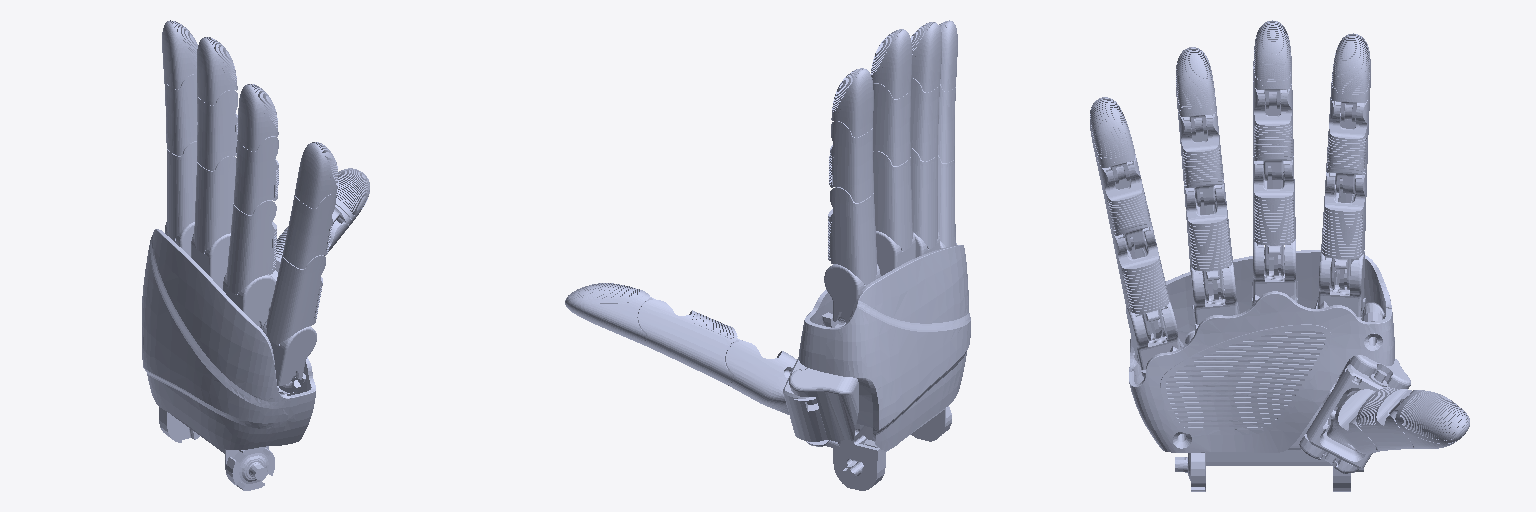
--- Render facts (derived) ---
3 views of the same robot in one strip: view 1: azimuth 30°, elevation 25°; view 2: azimuth 150°, elevation 25°; view 3: azimuth 270°, elevation 25° (orthographic).
Robot: 1011 — 21 links, 20 joints (20 revolute); root link base_link; default pose: all joints at 0.
Visible links, largest first — view 1: base_link, ring_proximal, pinky_proximal, middle_proximal, ring_middle, middle_middle, pinky_middle, index_proximal, index_middle, pinky_distal, ring_distal, middle_distal (+6 smaller); view 2: base_link, thumb_proximal, index_proximal, thumb_distal, thumb_metacarpals, middle_proximal, index_middle, middle_middle, ring_proximal, index_distal, middle_distal, ring_middle (+7 smaller); view 3: base_link, index_proximal, middle_proximal, pinky_proximal, ring_proximal, thumb_distal, index_middle, middle_middle, ring_middle, pinky_middle, index_distal, ring_distal (+9 smaller).
Link boxes in pixels (left/top/right/bottom): base_link: left=142, top=229, right=315, bottom=490; ring_proximal: left=227, top=200, right=276, bottom=294; pinky_proximal: left=266, top=255, right=325, bottom=345; middle_proximal: left=194, top=156, right=235, bottom=253; ring_middle: left=234, top=136, right=278, bottom=214; middle_middle: left=197, top=90, right=237, bottom=170; pinky_middle: left=283, top=194, right=336, bottom=268; index_proximal: left=167, top=141, right=196, bottom=240; index_middle: left=164, top=74, right=197, bottom=155; pinky_distal: left=295, top=142, right=337, bottom=208; ring_distal: left=237, top=84, right=278, bottom=151; middle_distal: left=197, top=37, right=237, bottom=105; base_link: left=789, top=245, right=970, bottom=490; thumb_proximal: left=637, top=299, right=742, bottom=384; index_proximal: left=828, top=187, right=876, bottom=285; thumb_distal: left=565, top=283, right=653, bottom=343; thumb_metacarpals: left=725, top=341, right=796, bottom=414; middle_proximal: left=873, top=151, right=912, bottom=251; index_middle: left=829, top=121, right=873, bottom=202; middle_middle: left=873, top=83, right=910, bottom=165; ring_proximal: left=911, top=148, right=937, bottom=249; index_distal: left=831, top=68, right=873, bottom=137; middle_distal: left=871, top=29, right=911, bottom=98; ring_middle: left=911, top=78, right=939, bottom=161; base_link: left=1129, top=250, right=1410, bottom=491; index_proximal: left=1321, top=169, right=1366, bottom=289; middle_proximal: left=1253, top=156, right=1295, bottom=275; pinky_proximal: left=1110, top=226, right=1169, bottom=340; ring_proximal: left=1183, top=180, right=1232, bottom=300; thumb_distal: left=1394, top=390, right=1469, bottom=448; index_middle: left=1326, top=95, right=1369, bottom=194; middle_middle: left=1253, top=81, right=1293, bottom=180; ring_middle: left=1177, top=106, right=1223, bottom=206; pinky_middle: left=1096, top=154, right=1151, bottom=251; index_distal: left=1331, top=33, right=1370, bottom=122; ring_distal: left=1176, top=47, right=1215, bottom=135.
Bounding box of the posed robot: 0.1263 × 0.1414 × 0.1892 m (x, y, z).
21 mesh visuals loaded from 21 distinct referenced files (21 binary STL).

robot.urdf — 1011:
<?xml version="1.0" encoding="utf-8"?>
<!-- This URDF was automatically created by SolidWorks to URDF Exporter! Originally created by Stephen Brawner ([email redacted]) 
     Commit Version: 1.6.0-4-g7f85cfe  Build Version: 1.6.7995.38578
     For more information, please see http://wiki.ros.org/sw_urdf_exporter -->
<robot
  name="1011">
  <link
    name="base_link">
    <inertial>
      <origin
        xyz="0.000122153727241945 0.000408198872102964 0.0349773948843507"
        rpy="0 0 0" />
      <mass
        value="0.0953275584592678" />
      <inertia
        ixx="8.12767034774874E-05"
        ixy="-1.20182058359627E-06"
        ixz="1.8603668517547E-06"
        iyy="3.66829163752885E-05"
        iyz="-5.92270024064725E-06"
        izz="5.50855700489137E-05" />
    </inertial>
    <visual>
      <origin
        xyz="0 0 0"
        rpy="0 0 0" />
      <geometry>
        <mesh
          filename="meshes/base_link.STL" />
      </geometry>
      <material
        name="">
        <color
          rgba="0.792156862745098 0.819607843137255 0.933333333333333 1" />
      </material>
    </visual>
    <collision>
      <origin
        xyz="0 0 0"
        rpy="0 0 0" />
      <geometry>
        <mesh
          filename="meshes/base_link.STL" />
      </geometry>
    </collision>
  </link>
  <link
    name="ring_metacarpals">
    <inertial>
      <origin
        xyz="0.000604992288528814 -0.000777000681643124 0.00921175861209927"
        rpy="0 0 0" />
      <mass
        value="0.00336703733173821" />
      <inertia
        ixx="2.52245609753582E-07"
        ixy="1.3957367915388E-09"
        ixz="-1.64337225544983E-08"
        iyy="2.28131148859466E-07"
        iyz="5.18441756668669E-09"
        izz="1.66457521170697E-07" />
    </inertial>
    <visual>
      <origin
        xyz="0 0 0"
        rpy="0 0 0" />
      <geometry>
        <mesh
          filename="meshes/ring_metacarpals.STL" />
      </geometry>
      <material
        name="">
        <color
          rgba="0.792156862745098 0.819607843137255 0.933333333333333 1" />
      </material>
    </visual>
    <collision>
      <origin
        xyz="0 0 0"
        rpy="0 0 0" />
      <geometry>
        <mesh
          filename="meshes/ring_metacarpals.STL" />
          
      </geometry>
    </collision>
  </link>
  <joint
    name="ring_mcp_roll"
    type="revolute">
    <origin
      xyz="0.000984164159990901 -0.0196233036484506 0.0595593160596756"
      rpy="0.000484146754163954 0.0090327772429152 0.0535483734265152" />
    <parent
      link="base_link" />
    <child
      link="ring_metacarpals" />
    <axis
      xyz="1 0 0" />
    <limit
      lower="-0.26"
      upper="0.26"
      effort="1"
      velocity="1" />
  </joint>
  <link
    name="ring_proximal">
    <inertial>
      <origin
        xyz="-0.000442405810898327 9.14959433330337E-05 0.0170991732306565"
        rpy="0 0 0" />
      <mass
        value="0.0050760533217958" />
      <inertia
        ixx="7.9802097349061E-07"
        ixy="4.96804620767589E-10"
        ixz="1.30336525851099E-08"
        iyy="7.76377361672724E-07"
        iyz="6.50584415383022E-09"
        izz="2.00454958675709E-07" />
    </inertial>
    <visual>
      <origin
        xyz="0 0 0"
        rpy="0 0 0" />
      <geometry>
        <mesh
          filename="meshes/ring_proximal.STL" />
      </geometry>
      <material
        name="">
        <color
          rgba="0.792156862745098 0.819607843137255 0.933333333333333 1" />
      </material>
    </visual>
    <collision>
      <origin
        xyz="0 0 0"
        rpy="0 0 0" />
      <geometry>
        <mesh
          filename="meshes/ring_proximal.STL" />
      </geometry>
    </collision>
  </link>
  <joint
    name="ring_mcp_pitch"
    type="revolute">
    <origin
      xyz="0.00205000000000084 -0.00142307699391602 0.0169403321062305"
      rpy="0.0838119142718017 -0.00903314306670486 -0.000758852240191828" />
    <parent
      link="ring_metacarpals" />
    <child
      link="ring_proximal" />
    <axis
      xyz="0 1 0" />
    <limit
      lower="0"
      upper="1.45"
      effort="1"
      velocity="1" />
  </joint>
  <link
    name="ring_middle">
    <inertial>
      <origin
        xyz="-3.07953615208812E-05 1.61945949635756E-05 0.012965186818066"
        rpy="0 0 0" />
      <mass
        value="0.00351914992638037" />
      <inertia
        ixx="4.05885505678015E-07"
        ixy="-1.85188429739576E-10"
        ixz="1.09283975990789E-08"
        iyy="3.87436363636499E-07"
        iyz="4.30697717728069E-10"
        izz="1.24393734331083E-07" />
    </inertial>
    <visual>
      <origin
        xyz="0 0 0"
        rpy="0 0 0" />
      <geometry>
        <mesh
          filename="meshes/ring_middle.STL" />
      </geometry>
      <material
        name="">
        <color
          rgba="0.792156862745098 0.819607843137255 0.933333333333333 1" />
      </material>
    </visual>
    <collision>
      <origin
        xyz="0 0 0"
        rpy="0 0 0" />
      <geometry>
        <mesh
          filename="meshes/ring_middle.STL" />
      </geometry>
    </collision>
  </link>
  <joint
    name="ring_pip"
    type="revolute">
    <origin
      xyz="0.000398702854897328 0 0.0374756622963914"
      rpy="0 0 0" />
    <parent
      link="ring_proximal" />
    <child
      link="ring_middle" />
    <axis
      xyz="0 1 0" />
    <limit
      lower="0"
      upper="1.45"
      effort="1"
      velocity="1" />
  </joint>
  <link
    name="ring_distal">
    <inertial>
      <origin
        xyz="-0.00162599582883669 5.76867107840787E-06 0.0106289489271671"
        rpy="0 0 0" />
      <mass
        value="0.0030085558007415" />
      <inertia
        ixx="1.60641427396609E-07"
        ixy="-4.07806615450471E-12"
        ixz="3.54886546370617E-08"
        iyy="1.52390062343029E-07"
        iyz="-6.05724354360575E-12"
        izz="7.33039277991604E-08" />
    </inertial>
    <visual>
      <origin
        xyz="0 0 0"
        rpy="0 0 0" />
      <geometry>
        <mesh
          filename="meshes/ring_distal.STL" />
      </geometry>
      <material
        name="">
        <color
          rgba="0.792156862745098 0.819607843137255 0.933333333333333 1" />
      </material>
    </visual>
    <collision>
      <origin
        xyz="0 0 0"
        rpy="0 0 0" />
      <geometry>
        <mesh
          filename="meshes/ring_distal.STL" />
      </geometry>
    </collision>
  </link>
  <joint
    name="ring_dip"
    type="revolute">
    <origin
      xyz="0.000310987014436305 0 0.0292309026345045"
      rpy="0 0 0" />
    <parent
      link="ring_middle" />
    <child
      link="ring_distal" />
    <axis
      xyz="0 1 0" />
    <limit
      lower="0"
      upper="1.45"
      effort="1"
      velocity="1" />
  </joint>
  <link
    name="pinky_metacarpals">
    <inertial>
      <origin
        xyz="0.000604992415298353 -0.00174798564812304 0.00907770691726507"
        rpy="0 0 0" />
      <mass
        value="0.00336703800549205" />
      <inertia
        ixx="2.52245635666355E-07"
        ixy="3.12791375981564E-09"
        ixz="-1.61935666749455E-08"
        iyy="2.26348062162324E-07"
        iyz="1.15615366525803E-08"
        izz="1.68240642777198E-07" />
    </inertial>
    <visual>
      <origin
        xyz="0 0 0"
        rpy="0 0 0" />
      <geometry>
        <mesh
          filename="meshes/pinky_metacarpals.STL" />
      </geometry>
      <material
        name="">
        <color
          rgba="0.792156862745098 0.819607843137255 0.933333333333333 1" />
      </material>
    </visual>
    <collision>
      <origin
        xyz="0 0 0"
        rpy="0 0 0" />
      <geometry>
        <mesh
          filename="meshes/pinky_metacarpals.STL" />
      </geometry>
    </collision>
  </link>
  <joint
    name="pinky_mcp_roll"
    type="revolute">
    <origin
      xyz="0.004476015868019 -0.0409880441556091 0.0460631677955588"
      rpy="0.00983049129128167 0.0480762501110176 0.201778667527731" />
    <parent
      link="base_link" />
    <child
      link="pinky_metacarpals" />
    <axis
      xyz="1 0 0" />
    <limit
      lower="-0.26"
      upper="0.26"
      effort="1"
      velocity="1" />
  </joint>
  <link
    name="pinky_proximal">
    <inertial>
      <origin
        xyz="0.000241573271918778 9.16621225185085E-05 0.0171032237676361"
        rpy="0 0 0" />
      <mass
        value="0.00507590942013936" />
      <inertia
        ixx="7.98071567469929E-07"
        ixy="7.55943229984881E-10"
        ixz="-1.08703328588972E-08"
        iyy="7.7633906295854E-07"
        iyz="6.48686122994881E-09"
        izz="2.00357492107178E-07" />
    </inertial>
    <visual>
      <origin
        xyz="0 0 0"
        rpy="0 0 0" />
      <geometry>
        <mesh
          filename="meshes/pinky_proximal.STL" />
      </geometry>
      <material
        name="">
        <color
          rgba="0.792156862745098 0.819607843137255 0.933333333333333 1" />
      </material>
    </visual>
    <collision>
      <origin
        xyz="0 0 0"
        rpy="0 0 0" />
      <geometry>
        <mesh
          filename="meshes/pinky_proximal.STL" />
      </geometry>
    </collision>
  </link>
  <joint
    name="pinky_mcp_pitch"
    type="revolute">
    <origin
      xyz="0.00205000000000022 -0.00320874032852877 0.0166944297747506"
      rpy="0.190111718080316 -0.0481673822387043 -0.00926527451721673" />
    <parent
      link="pinky_metacarpals" />
    <child
      link="pinky_proximal" />
    <axis
      xyz="0 1 0" />
    <limit
      lower="0"
      upper="1.45"
      effort="1"
      velocity="1" />
  </joint>
  <link
    name="pinky_middle">
    <inertial>
      <origin
        xyz="0.00048738063986078 1.61302500384305E-05 0.0129558671771622"
        rpy="0 0 0" />
      <mass
        value="0.00351935867324924" />
      <inertia
        ixx="4.06319741656534E-07"
        ixy="-1.67512786393216E-10"
        ixz="-3.51590891552475E-10"
        iyy="3.87443075843022E-07"
        iyz="4.38224443553676E-10"
        izz="1.23969900576121E-07" />
    </inertial>
    <visual>
      <origin
        xyz="0 0 0"
        rpy="0 0 0" />
      <geometry>
        <mesh
          filename="meshes/pinky_middle.STL" />
      </geometry>
      <material
        name="">
        <color
          rgba="0.792156862745098 0.819607843137255 0.933333333333333 1" />
      </material>
    </visual>
    <collision>
      <origin
        xyz="0 0 0"
        rpy="0 0 0" />
      <geometry>
        <mesh
          filename="meshes/pinky_middle.STL" />
      </geometry>
    </collision>
  </link>
  <joint
    name="pinky_pip"
    type="revolute">
    <origin
      xyz="0.00189644048380538 0 0.0374297707982703"
      rpy="0 0 0" />
    <parent
      link="pinky_proximal" />
    <child
      link="pinky_middle" />
    <axis
      xyz="0 1 0" />
    <limit
      lower="0"
      upper="1.45"
      effort="1"
      velocity="1" />
  </joint>
  <link
    name="pinky_distal">
    <inertial>
      <origin
        xyz="-0.00120007372916057 5.7912912031291E-06 0.0106856379148494"
        rpy="0 0 0" />
      <mass
        value="0.00300831401572779" />
      <inertia
        ixx="1.63335925401818E-07"
        ixy="-3.4546076099316E-12"
        ixz="3.18850321453211E-08"
        iyy="1.52389394346853E-07"
        iyz="-8.15951244770538E-12"
        izz="7.06003562963947E-08" />
    </inertial>
    <visual>
      <origin
        xyz="0 0 0"
        rpy="0 0 0" />
      <geometry>
        <mesh
          filename="meshes/pinky_distal.STL" />
      </geometry>
      <material
        name="">
        <color
          rgba="0.792156862745098 0.819607843137255 0.933333333333333 1" />
      </material>
    </visual>
    <collision>
      <origin
        xyz="0 0 0"
        rpy="0 0 0" />
      <geometry>
        <mesh
          filename="meshes/pinky_distal.STL" />
      </geometry>
    </collision>
  </link>
  <joint
    name="pinky_dip"
    type="revolute">
    <origin
      xyz="0.0014792178106367 0 0.0291951074055178"
      rpy="0 0 0" />
    <parent
      link="pinky_middle" />
    <child
      link="pinky_distal" />
    <axis
      xyz="0 1 0" />
    <limit
      lower="0"
      upper="1.45"
      effort="1"
      velocity="1" />
  </joint>
  <link
    name="middle_metacarpals">
    <inertial>
      <origin
        xyz="0.000604992200713344 -9.10133173212268E-05 0.00924402277859864"
        rpy="0 0 0" />
      <mass
        value="0.00336703657815981" />
      <inertia
        ixx="2.52245584966873E-07"
        ixy="1.71914758712969E-10"
        ixz="-1.64919831961142E-08"
        iyy="2.28558868905267E-07"
        iyz="5.61508176325026E-10"
        izz="1.66029764061523E-07" />
    </inertial>
    <visual>
      <origin
        xyz="0 0 0"
        rpy="0 0 0" />
      <geometry>
        <mesh
          filename="meshes/middle_metacarpals.STL" />
      </geometry>
      <material
        name="">
        <color
          rgba="0.792156862745098 0.819607843137255 0.933333333333333 1" />
      </material>
    </visual>
    <collision>
      <origin
        xyz="0 0 0"
        rpy="0 0 0" />
      <geometry>
        <mesh
          filename="meshes/middle_metacarpals.STL" />
      </geometry>
    </collision>
  </link>
  <joint
    name="middle_mcp_roll"
    type="revolute">
    <origin
      xyz="-0.000558750127642211 0.00199999999999996 0.0687193135351955"
      rpy="0 0 0" />
    <parent
      link="base_link" />
    <child
      link="middle_metacarpals" />
    <axis
      xyz="1 0 0" />
    <limit
      lower="-0.26"
      upper="0.26"
      effort="1"
      velocity="1" />
  </joint>
  <link
    name="middle_proximal">
    <inertial>
      <origin
        xyz="-0.000597387569923995 9.14921175449817E-05 0.0170944627525956"
        rpy="0 0 0" />
      <mass
        value="0.00507606848812129" />
      <inertia
        ixx="7.97737112921743E-07"
        ixy="4.37945379660437E-10"
        ixz="1.8446548839231E-08"
        iyy="7.76379250187632E-07"
        iyz="6.51012928008541E-09"
        izz="2.00741368938845E-07" />
    </inertial>
    <visual>
      <origin
        xyz="0 0 0"
        rpy="0 0 0" />
      <geometry>
        <mesh
          filename="meshes/middle_proximal.STL" />
      </geometry>
      <material
        name="">
        <color
          rgba="0.792156862745098 0.819607843137255 0.933333333333333 1" />
      </material>
    </visual>
    <collision>
      <origin
        xyz="0 0 0"
        rpy="0 0 0" />
      <geometry>
        <mesh
          filename="meshes/middle_proximal.STL" />
      </geometry>
    </collision>
  </link>
  <joint
    name="middle_mcp_pitch"
    type="revolute">
    <origin
      xyz="0.00205000000000069 -0.000161569543388175 0.016999232196857"
      rpy="0.00950423387383179 0 0" />
    <parent
      link="middle_metacarpals" />
    <child
      link="middle_proximal" />
    <axis
      xyz="0 1 0" />
    <limit
      lower="0"
      upper="1.45"
      effort="1"
      velocity="1" />
  </joint>
  <link
    name="middle_middle">
    <inertial>
      <origin
        xyz="-0.000148343358137275 1.6229060517171E-05 0.0129647620091407"
        rpy="0 0 0" />
      <mass
        value="0.00351907493344208" />
      <inertia
        ixx="4.05670154245459E-07"
        ixy="-1.88873006229651E-10"
        ixz="1.34821565732684E-08"
        iyy="3.87446195025304E-07"
        iyz="4.30756497642751E-10"
        izz="1.24615611075233E-07" />
    </inertial>
    <visual>
      <origin
        xyz="0 0 0"
        rpy="0 0 0" />
      <geometry>
        <mesh
          filename="meshes/middle_middle.STL" />
      </geometry>
      <material
        name="">
        <color
          rgba="0.792156862745098 0.819607843137255 0.933333333333333 1" />
      </material>
    </visual>
    <collision>
      <origin
        xyz="0 0 0"
        rpy="0 0 0" />
      <geometry>
        <mesh
          filename="meshes/middle_middle.STL" />
      </geometry>
    </collision>
  </link>
  <joint
    name="middle_pip"
    type="revolute">
    <origin
      xyz="5.89757156506249E-05 0 0.0374777367297524"
      rpy="0 0 0" />
    <parent
      link="middle_proximal" />
    <child
      link="middle_middle" />
    <axis
      xyz="0 1 0" />
    <limit
      lower="0"
      upper="1.45"
      effort="1"
      velocity="1" />
  </joint>
  <link
    name="middle_distal">
    <inertial>
      <origin
        xyz="-0.00172222787983845 5.76849977571145E-06 0.0106139259055365"
        rpy="0 0 0" />
      <mass
        value="0.00300862444672732" />
      <inertia
        ixx="1.59990060388022E-07"
        ixy="-2.79688533266781E-12"
        ixz="3.62747785657225E-08"
        iyy="1.52389907319727E-07"
        iyz="-6.84744076323599E-12"
        izz="7.39573692701429E-08" />
    </inertial>
    <visual>
      <origin
        xyz="0 0 0"
        rpy="0 0 0" />
      <geometry>
        <mesh
          filename="meshes/middle_distal.STL" />
      </geometry>
      <material
        name="">
        <color
          rgba="0.792156862745098 0.819607843137255 0.933333333333333 1" />
      </material>
    </visual>
    <collision>
      <origin
        xyz="0 0 0"
        rpy="0 0 0" />
      <geometry>
        <mesh
          filename="meshes/middle_distal.STL" />
      </geometry>
    </collision>
  </link>
  <joint
    name="middle_dip"
    type="revolute">
    <origin
      xyz="4.60008788725467E-05 0 0.029232520686218"
      rpy="0 0 0" />
    <parent
      link="middle_middle" />
    <child
      link="middle_distal" />
    <axis
      xyz="0 1 0" />
    <limit
      lower="0"
      upper="1.45"
      effort="1"
      velocity="1" />
  </joint>
  <link
    name="index_metacarpals">
    <inertial>
      <origin
        xyz="0.000604992462815462 0.000390475031597566 0.00923622036768993"
        rpy="0 0 0" />
      <mass
        value="0.00336703681682743" />
      <inertia
        ixx="2.52245598042782E-07"
        ixy="-6.87103646340949E-10"
        ixz="-1.6478555495494E-08"
        iyy="2.28447717393264E-07"
        iyz="-2.69321575039201E-09"
        izz="1.66140925367234E-07" />
    </inertial>
    <visual>
      <origin
        xyz="0 0 0"
        rpy="0 0 0" />
      <geometry>
        <mesh
          filename="meshes/index_metacarpals.STL" />
      </geometry>
      <material
        name="">
        <color
          rgba="0.792156862745098 0.819607843137255 0.933333333333333 1" />
      </material>
    </visual>
    <collision>
      <origin
        xyz="0 0 0"
        rpy="0 0 0" />
      <geometry>
        <mesh
          filename="meshes/index_metacarpals.STL" />
      </geometry>
    </collision>
  </link>
  <joint
    name="index_mcp_roll"
    type="revolute">
    <origin
      xyz="0.00135314269572811 0.0262634482323828 0.0638497239660517"
      rpy="0.00130397490498434 -0.0151350137208889 -0.0859472581237413" />
    <parent
      link="base_link" />
    <child
      link="index_metacarpals" />
    <axis
      xyz="1 0 0" />
    <limit
      lower="-0.26"
      upper="0.26"
      effort="1"
      velocity="1" />
  </joint>
  <link
    name="index_proximal">
    <inertial>
      <origin
        xyz="-0.000856299257843096 9.14908805367334E-05 0.0170834091443181"
        rpy="0 0 0" />
      <mass
        value="0.00507604721014978" />
      <inertia
        ixx="7.97038033711248E-07"
        ixy="3.39661133954026E-10"
        ixz="2.74813761319766E-08"
        iyy="7.7637621986233E-07"
        iyz="6.51624500268013E-09"
        izz="2.01435984073942E-07" />
    </inertial>
    <visual>
      <origin
        xyz="0 0 0"
        rpy="0 0 0" />
      <geometry>
        <mesh
          filename="meshes/index_proximal.STL" />
      </geometry>
      <material
        name="">
        <color
          rgba="0.792156862745098 0.819607843137255 0.933333333333333 1" />
      </material>
    </visual>
    <collision>
      <origin
        xyz="0 0 0"
        rpy="0 0 0" />
      <geometry>
        <mesh
          filename="meshes/index_proximal.STL" />
      </geometry>
    </collision>
  </link>
  <joint
    name="index_mcp_pitch"
    type="revolute">
    <origin
      xyz="0.00205000000000052 0.000723853327462082 0.0169845823133896"
      rpy="-0.0425973654908491 0.0151341825120528 -0.000645041802587545" />
    <parent
      link="index_metacarpals" />
    <child
      link="index_proximal" />
    <axis
      xyz="0 1 0" />
    <limit
      lower="0"
      upper="1.45"
      effort="1"
      velocity="1" />
  </joint>
  <link
    name="index_middle">
    <inertial>
      <origin
        xyz="-0.000344722082964915 1.61264217699783E-05 0.0129609933233212"
        rpy="0 0 0" />
      <mass
        value="0.0035191208790441" />
      <inertia
        ixx="4.05199844080222E-07"
        ixy="-1.951695172344E-10"
        ixz="1.77328119208625E-08"
        iyy="3.87448112052797E-07"
        iyz="4.26691874690543E-10"
        izz="1.25089734619731E-07" />
    </inertial>
    <visual>
      <origin
        xyz="0 0 0"
        rpy="0 0 0" />
      <geometry>
        <mesh
          filename="meshes/index_middle.STL" />
      </geometry>
      <material
        name="">
        <color
          rgba="0.792156862745098 0.819607843137255 0.933333333333333 1" />
      </material>
    </visual>
    <collision>
      <origin
        xyz="0 0 0"
        rpy="0 0 0" />
      <geometry>
        <mesh
          filename="meshes/index_middle.STL" />
      </geometry>
    </collision>
  </link>
  <joint
    name="index_pip"
    type="revolute">
    <origin
      xyz="-0.00050871915574823 0 0.0374743303254407"
      rpy="0 0 0" />
    <parent
      link="index_proximal" />
    <child
      link="index_middle" />
    <axis
      xyz="0 1 0" />
    <limit
      lower="0"
      upper="1.45"
      effort="1"
      velocity="1" />
  </joint>
  <link
    name="index_distal">
    <inertial>
      <origin
        xyz="-0.00188281818999244 5.8014148869405E-06 0.0105864088242598"
        rpy="0 0 0" />
      <mass
        value="0.00300858925817878" />
      <inertia
        ixx="1.58870195401158E-07"
        ixy="-3.00527167289838E-12"
        ixz="3.75611390530122E-08"
        iyy="1.52388967145473E-07"
        iyz="-7.30105348458548E-12"
        izz="7.50762072321051E-08" />
    </inertial>
    <visual>
      <origin
        xyz="0 0 0"
        rpy="0 0 0" />
      <geometry>
        <mesh
          filename="meshes/index_distal.STL" />
      </geometry>
      <material
        name="">
        <color
          rgba="0.792156862745098 0.819607843137255 0.933333333333333 1" />
      </material>
    </visual>
    <collision>
      <origin
        xyz="0 0 0"
        rpy="0 0 0" />
      <geometry>
        <mesh
          filename="meshes/index_distal.STL" />
      </geometry>
    </collision>
  </link>
  <joint
    name="index_dip"
    type="revolute">
    <origin
      xyz="-0.000396799394561585 0 0.0292298637012133"
      rpy="0 0 0" />
    <parent
      link="index_middle" />
    <child
      link="index_distal" />
    <axis
      xyz="0 1 0" />
    <limit
      lower="0"
      upper="1.45"
      effort="1"
      velocity="1" />
  </joint>
  <link
    name="thumb_metacarpals_base2">
    <inertial>
      <origin
        xyz="-0.0015314070371433 -0.000187190106206825 -0.00155942986697459"
        rpy="0 0 0" />
      <mass
        value="0.00538827088538427" />
      <inertia
        ixx="4.01389736096669E-07"
        ixy="1.07747459442345E-09"
        ixz="8.95605323902379E-09"
        iyy="7.31124536864558E-07"
        iyz="3.03201113772735E-08"
        izz="9.80364928512913E-07" />
    </inertial>
    <visual>
      <origin
        xyz="0 0 0"
        rpy="0 0 0" />
      <geometry>
        <mesh
          filename="meshes/thumb_metacarpals_base2.STL" />
      </geometry>
      <material
        name="">
        <color
          rgba="0.792156862745098 0.819607843137255 0.933333333333333 1" />
      </material>
    </visual>
    <collision>
      <origin
        xyz="0 0 0"
        rpy="0 0 0" />
      <geometry>
        <mesh
          filename="meshes/thumb_metacarpals_base2.STL" />
      </geometry>
    </collision>
  </link>
  <joint
    name="thumb_cmc_yaw"
    type="revolute">
    <origin
      xyz="0.018841197752086 0.0319735834828885 0.0285096506505706"
      rpy="-1.33049483947685 1.02960836603009 -1.36378504932323" />
    <parent
      link="base_link" />
    <child
      link="thumb_metacarpals_base2" />
    <axis
      xyz="1 0 0" />
    <limit
      lower="-0.79"
      upper="0.79"
      effort="1"
      velocity="1" />
  </joint>
  <link
    name="thumb_metacarpals">
    <inertial>
      <origin
        xyz="-0.000483092938663564 -0.000366098418731767 0.0156599779124304"
        rpy="0 0 0" />
      <mass
        value="0.0085792246033564" />
      <inertia
        ixx="9.96297032970078E-07"
        ixy="-1.97312910953245E-08"
        ixz="5.95021444537226E-08"
        iyy="9.64717390983825E-07"
        iyz="-1.17024247702618E-08"
        izz="5.16983935718461E-07" />
    </inertial>
    <visual>
      <origin
        xyz="0 0 0"
        rpy="0 0 0" />
      <geometry>
        <mesh
          filename="meshes/thumb_metacarpals.STL" />
      </geometry>
      <material
        name="">
        <color
          rgba="0.792156862745098 0.819607843137255 0.933333333333333 1" />
      </material>
    </visual>
    <collision>
      <origin
        xyz="0 0 0"
        rpy="0 0 0" />
      <geometry>
        <mesh
          filename="meshes/thumb_metacarpals.STL" />
      </geometry>
    </collision>
  </link>
  <joint
    name="thumb_cmc_pitch"
    type="revolute">
    <origin
      xyz="0.0035 0 0"
      rpy="0.45118 -0.11931 -1.5708" />
    <parent
      link="thumb_metacarpals_base2" />
    <child
      link="thumb_metacarpals" />
    <axis
      xyz="-1 0 0" />
    <limit
      lower="0"
      upper="0.79"
      effort="1"
      velocity="1" />
  </joint>
  <link
    name="thumb_proximal">
    <inertial>
      <origin
        xyz="-0.000253930462336394 3.85768527323572E-05 0.0174889749560033"
        rpy="0 0 0" />
      <mass
        value="0.00724406588531127" />
      <inertia
        ixx="1.40355793704461E-06"
        ixy="-5.13590891756812E-10"
        ixz="4.80495651561954E-08"
        iyy="1.32197865824667E-06"
        iyz="5.49467953942175E-09"
        izz="4.41729204914362E-07" />
    </inertial>
    <visual>
      <origin
        xyz="0 0 0"
        rpy="0 0 0" />
      <geometry>
        <mesh
          filename="meshes/thumb_proximal.STL" />
      </geometry>
      <material
        name="">
        <color
          rgba="0.792156862745098 0.819607843137255 0.933333333333333 1" />
      </material>
    </visual>
    <collision>
      <origin
        xyz="0 0 0"
        rpy="0 0 0" />
      <geometry>
        <mesh
          filename="meshes/thumb_proximal.STL" />
      </geometry>
    </collision>
  </link>
  <joint
    name="thumb_mcp"
    type="revolute">
    <origin
      xyz="-5.35741531505693E-05 -0.000855144006936749 0.0324421622838387"
      rpy="0.0206111996188077 -0.0161285471258008 -0.349480836393033" />
    <parent
      link="thumb_metacarpals" />
    <child
      link="thumb_proximal" />
    <axis
      xyz="0 1 0" />
    <limit
      lower="0"
      upper="1.45"
      effort="1"
      velocity="1" />
  </joint>
  <link
    name="thumb_distal">
    <inertial>
      <origin
        xyz="-0.00232042627893438 1.76687753801266E-05 0.0138185232424426"
        rpy="0 0 0" />
      <mass
        value="0.00700367417691828" />
      <inertia
        ixx="6.19744859247405E-07"
        ixy="-1.04577508355539E-09"
        ixz="1.50968972143638E-07"
        iyy="6.11901892567194E-07"
        iyz="1.47106233921328E-09"
        izz="3.01260748816888E-07" />
    </inertial>
    <visual>
      <origin
        xyz="0 0 0"
        rpy="0 0 0" />
      <geometry>
        <mesh
          filename="meshes/thumb_distal.STL" />
      </geometry>
      <material
        name="">
        <color
          rgba="0.792156862745098 0.819607843137255 0.933333333333333 1" />
      </material>
    </visual>
    <collision>
      <origin
        xyz="0 0 0"
        rpy="0 0 0" />
      <geometry>
        <mesh
          filename="meshes/thumb_distal.STL" />
      </geometry>
    </collision>
  </link>
  <joint
    name="thumb_ip"
    type="revolute">
    <origin
      xyz="-0.000519512586156273 0 0.0378509365620059"
      rpy="0 0 0" />
    <parent
      link="thumb_proximal" />
    <child
      link="thumb_distal" />
    <axis
      xyz="0 1 0" />
    <limit
      lower="0"
      upper="1.45"
      effort="1"
      velocity="1" />
  </joint>
</robot>
